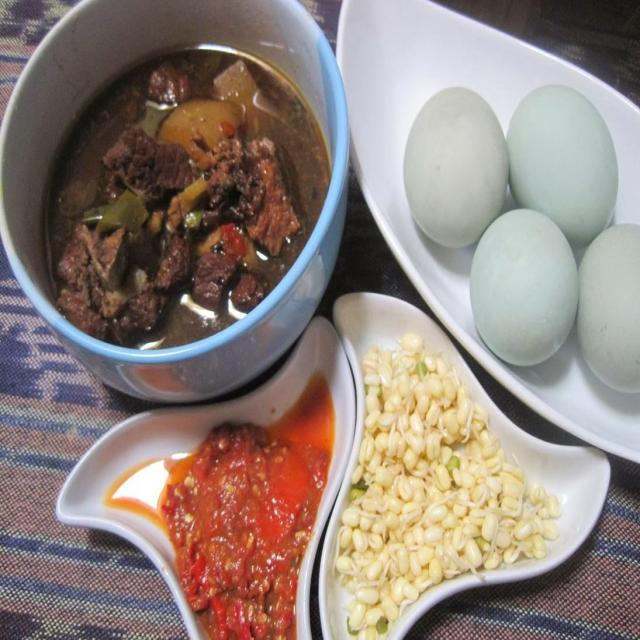Rawon: (26, 49, 316, 334)
